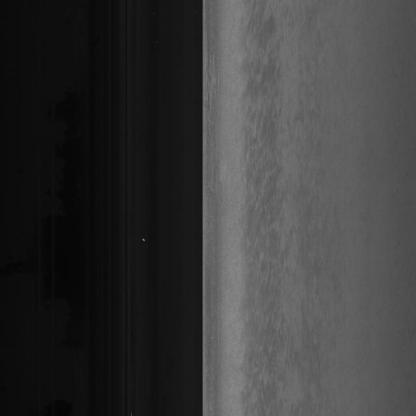silk_spot: (235, 144, 312, 249)
